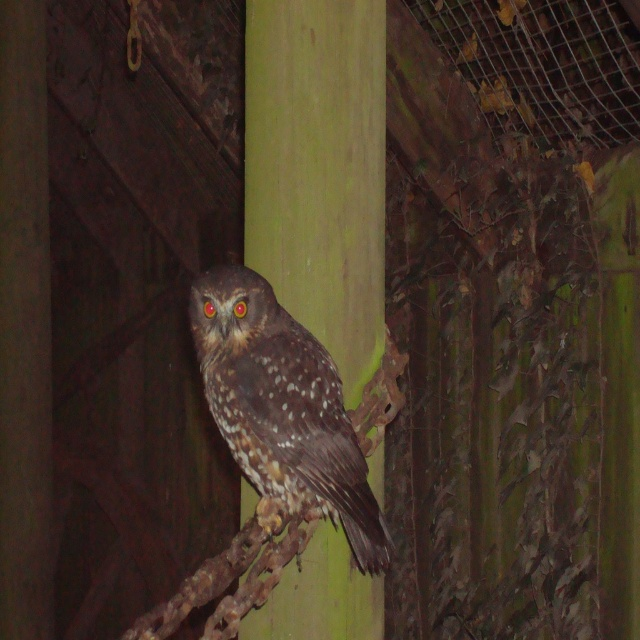Owl: (188, 265, 398, 575)
